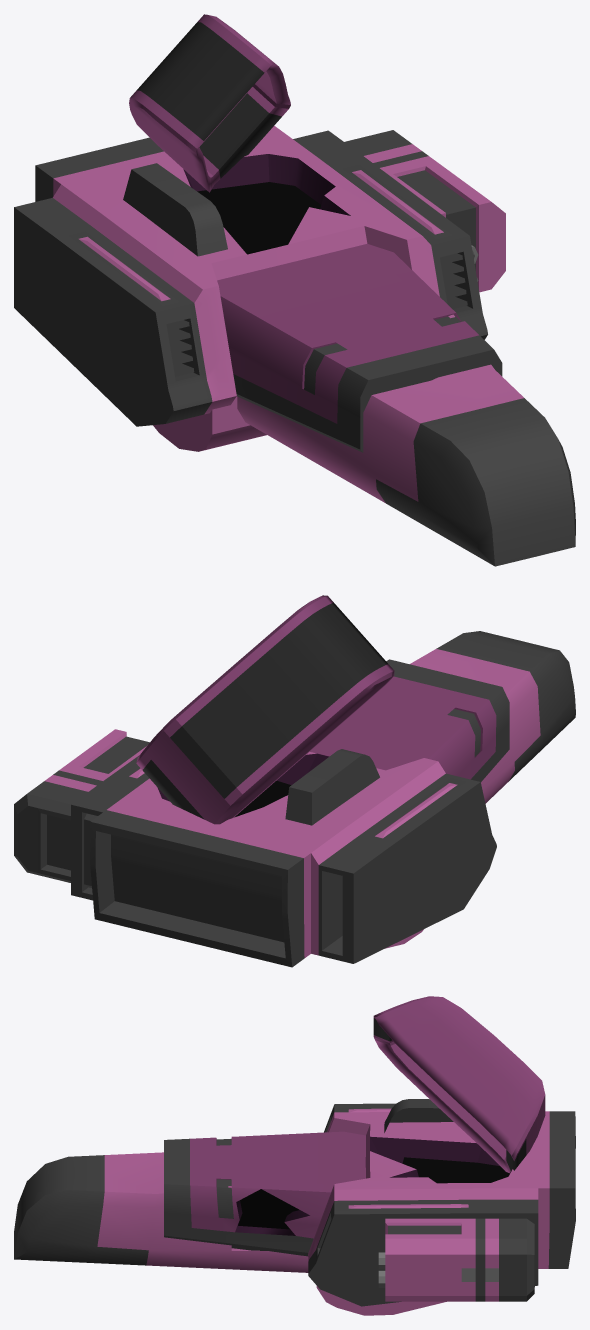
File: SuperCrashShip.fbx
The picture shows the model from 3 angles, top to bottom: view 1: azimuth 30°, elevation 25°; view 2: azimuth 150°, elevation 25°; view 3: azimuth 270°, elevation 25°; orthographic projection. The views are drawn at different scales.
Visible parts, largest first — view 1: Spaceship_FernandoTheFlamingo, Spaceship_FernandoTheFlamingo.010, Cube.001; view 2: Spaceship_FernandoTheFlamingo, Spaceship_FernandoTheFlamingo.010, Cube.001; view 3: Spaceship_FernandoTheFlamingo, Spaceship_FernandoTheFlamingo.010, Cube.001, Cube.
Boxes of the visible parts, bbox=[...] form: Spaceship_FernandoTheFlamingo: bbox=[14, 125, 575, 566]; Spaceship_FernandoTheFlamingo.010: bbox=[129, 14, 290, 192]; Cube.001: bbox=[197, 182, 321, 254]; Spaceship_FernandoTheFlamingo: bbox=[14, 631, 575, 967]; Spaceship_FernandoTheFlamingo.010: bbox=[136, 595, 394, 824]; Cube.001: bbox=[234, 780, 291, 817]; Spaceship_FernandoTheFlamingo: bbox=[14, 1099, 575, 1315]; Spaceship_FernandoTheFlamingo.010: bbox=[373, 996, 545, 1173]; Cube.001: bbox=[402, 1157, 509, 1183]; Cube: bbox=[238, 1189, 299, 1229].
Bounding box in the file's own units: 453 × 420 × 795.
3 materials, 1 textured.
